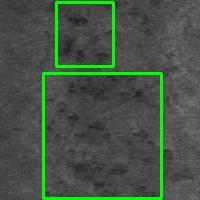rolled-in_scale: (44, 73, 161, 198), (56, 2, 113, 66)
